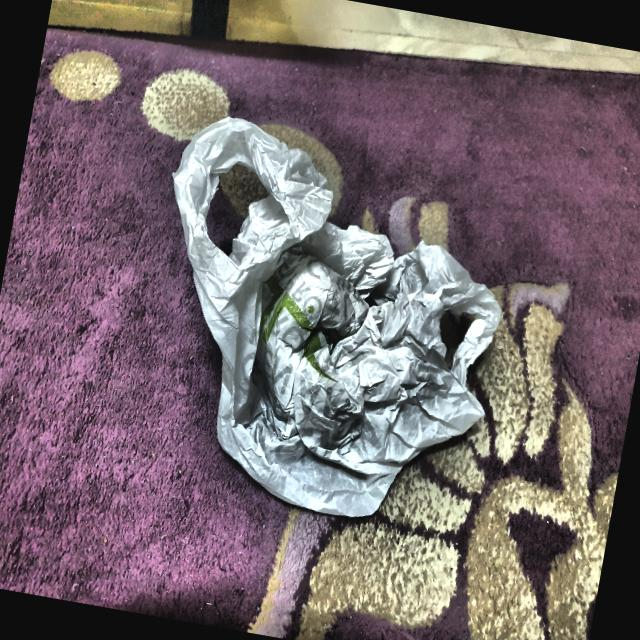plastic bag: (111, 96, 548, 553)
